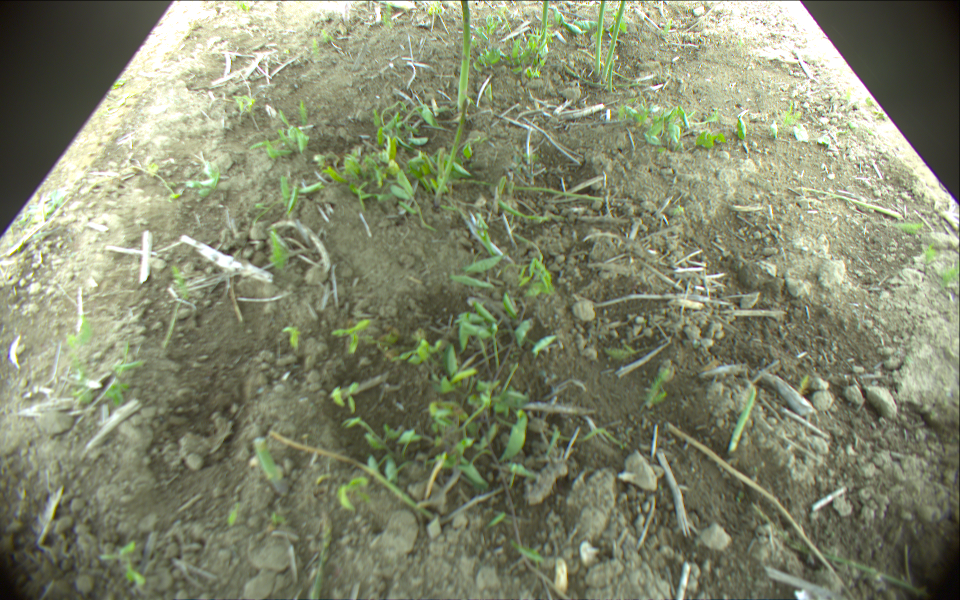aspa: (797, 187, 904, 219), (439, 98, 468, 200), (602, 1, 625, 77), (458, 1, 471, 105), (595, 1, 606, 74), (606, 58, 618, 93), (541, 1, 548, 51)
